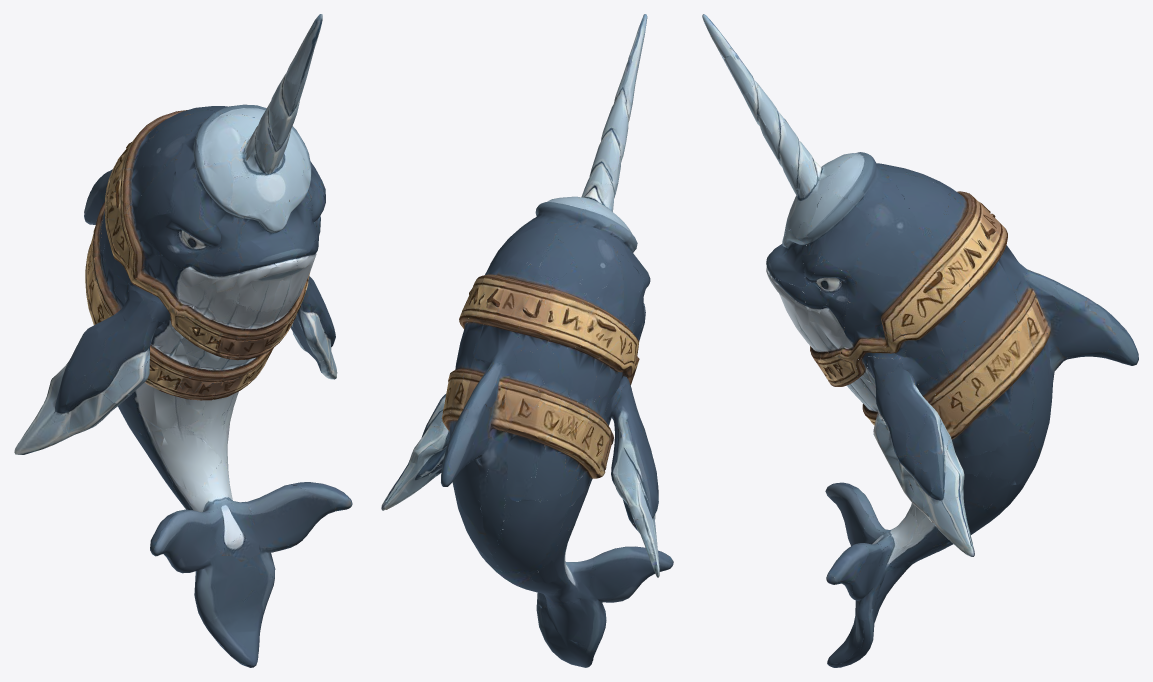
The picture shows the model from 3 angles, left to right: view 1: azimuth 30°, elevation 25°; view 2: azimuth 150°, elevation 25°; view 3: azimuth 270°, elevation 25°; orthographic projection. The views are drawn at different scales.
Visible parts, largest first — view 1: Mesh_0; view 2: Mesh_0; view 3: Mesh_0.
Part boxes in pixels (box(x1,y1,x2,y2)): Mesh_0: box(14, 14, 352, 667); Mesh_0: box(381, 14, 673, 667); Mesh_0: box(702, 14, 1138, 667).
Bounding box in the file's own units: 0.9097 × 1.9 × 1.15.
1 material, 1 textured.
